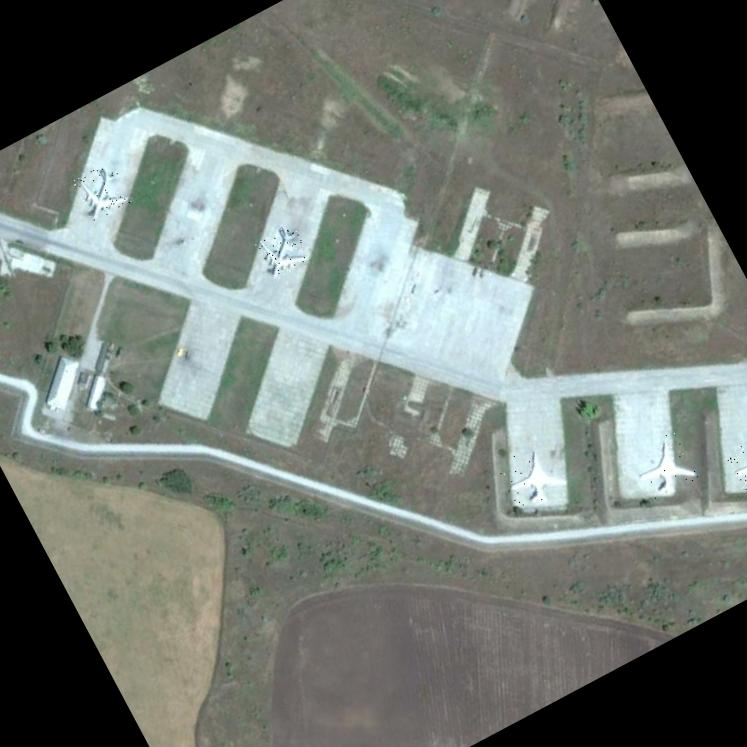A17: (70, 160, 131, 222), (252, 221, 312, 281)
A6: (494, 438, 570, 515), (624, 430, 698, 505), (723, 430, 747, 499)
